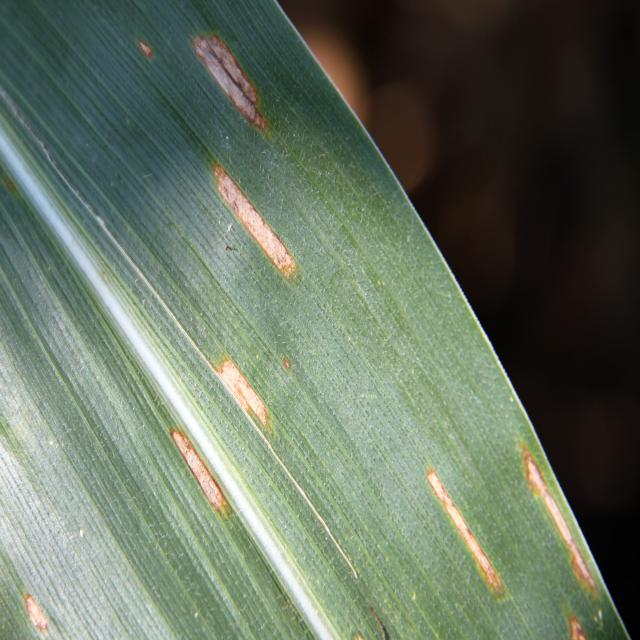Corn_Grey_Leaf_Spot: (64, 0, 597, 640)
